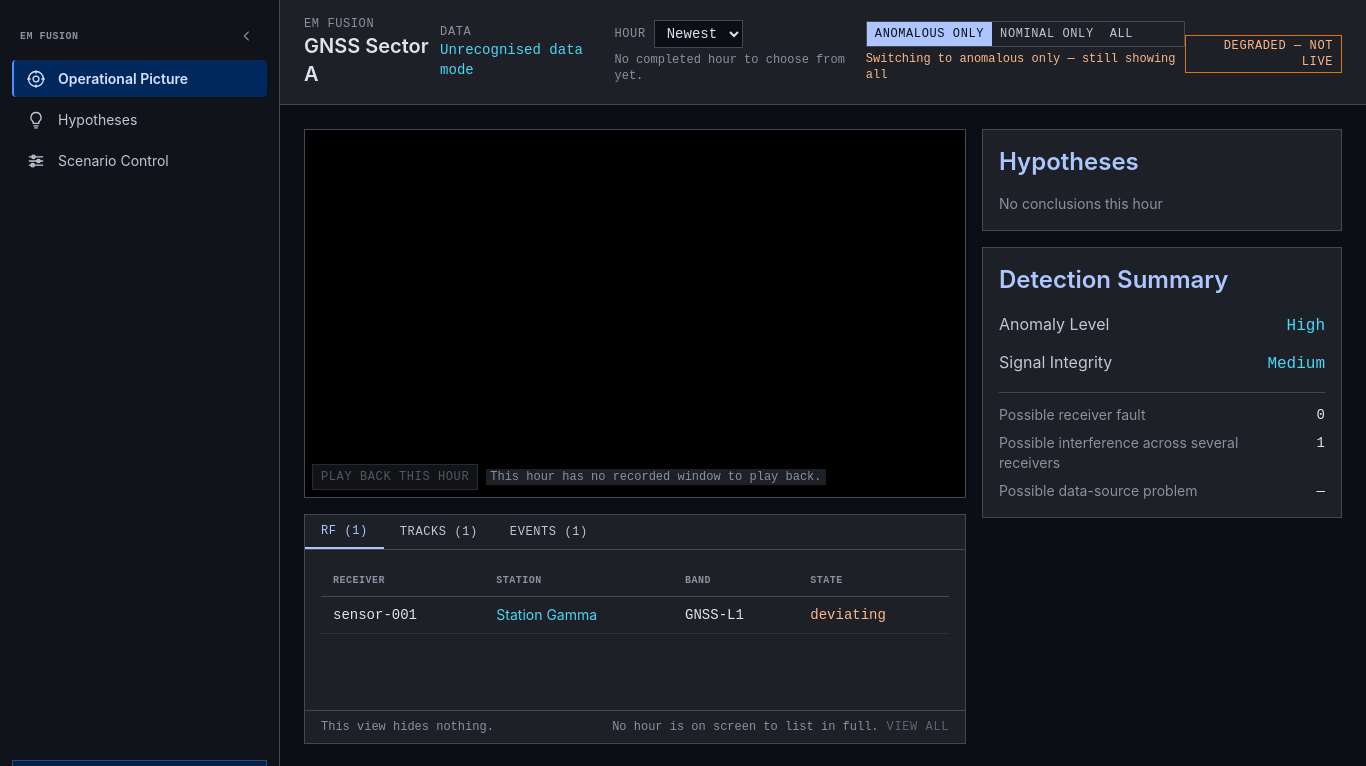
the navigation shell › leads the Hypotheses entry to its screen rather than to nothing
What coordinates should you click on to do the following:
click the link "Hypotheses"
I would click on:
 (82, 120)
Its box is [26,110,137,130].
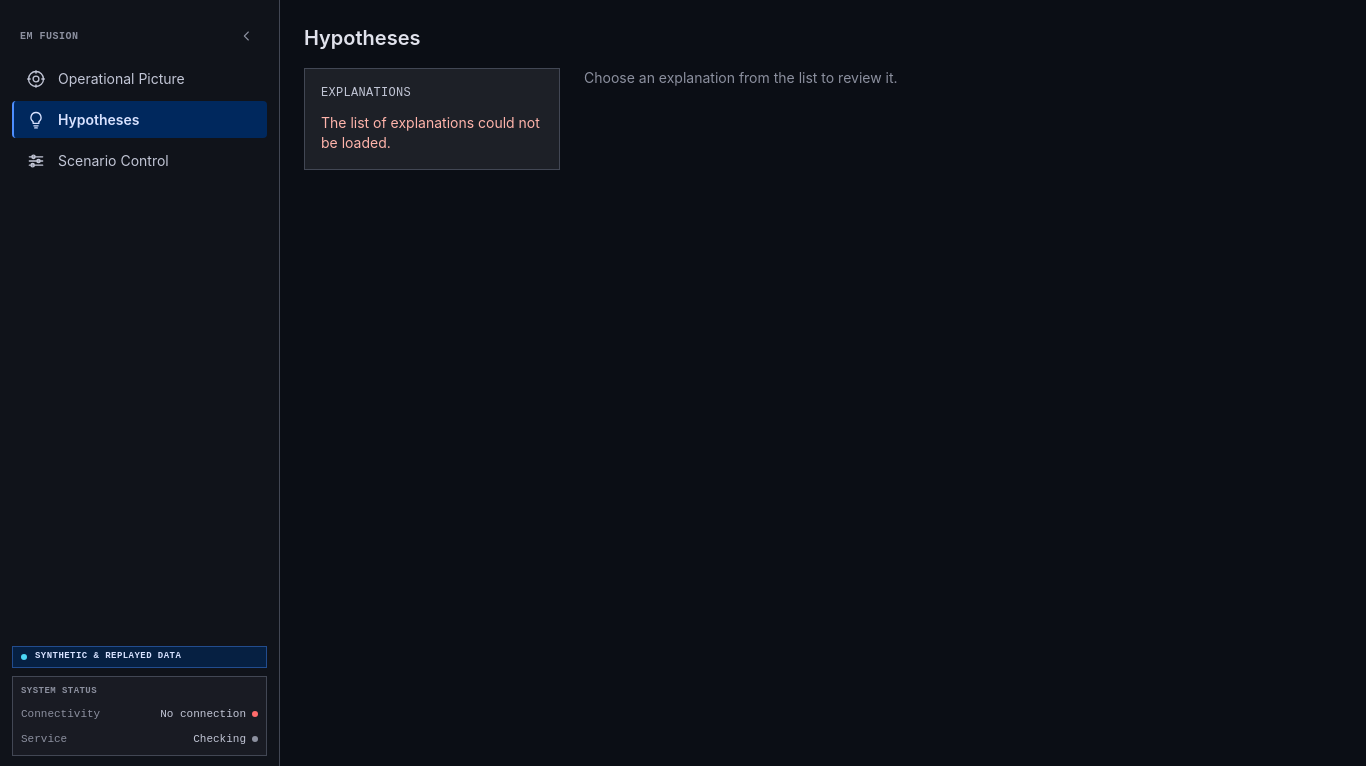
Result: the navigation bar "Explanations" is shown at [304,68,560,170]
